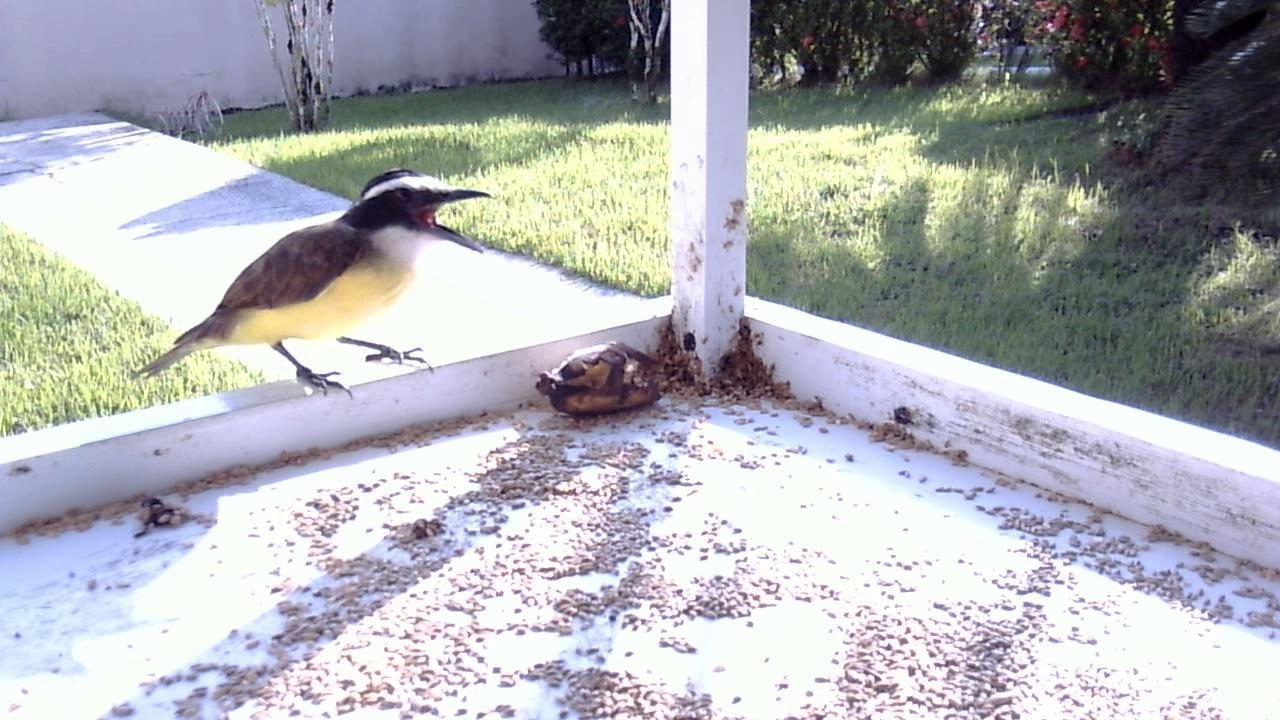bem_te_vi: (115, 144, 510, 428)
